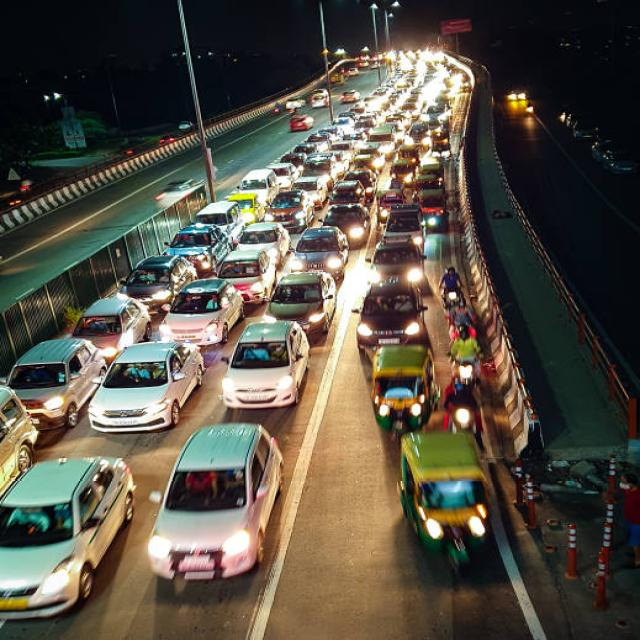Vehicles: (143, 429, 296, 589), (9, 439, 138, 606), (14, 310, 120, 462), (384, 411, 491, 556), (337, 336, 444, 446), (158, 266, 259, 379), (263, 264, 375, 361), (220, 318, 325, 417), (116, 334, 201, 447), (83, 293, 180, 382), (333, 283, 438, 361), (282, 222, 374, 304), (121, 245, 206, 333), (210, 244, 273, 311), (359, 233, 421, 298), (310, 197, 377, 255), (388, 202, 434, 274), (253, 183, 309, 241), (222, 181, 278, 238), (200, 187, 243, 254), (416, 182, 457, 235), (238, 160, 284, 203), (421, 104, 461, 136), (284, 161, 346, 181), (415, 164, 447, 199), (364, 134, 400, 164), (353, 163, 385, 196), (284, 87, 316, 120), (401, 123, 431, 157), (287, 132, 337, 152), (364, 125, 406, 148), (426, 127, 454, 160), (289, 115, 315, 138), (343, 83, 367, 104), (316, 87, 328, 113), (347, 59, 358, 81), (364, 58, 371, 70)
